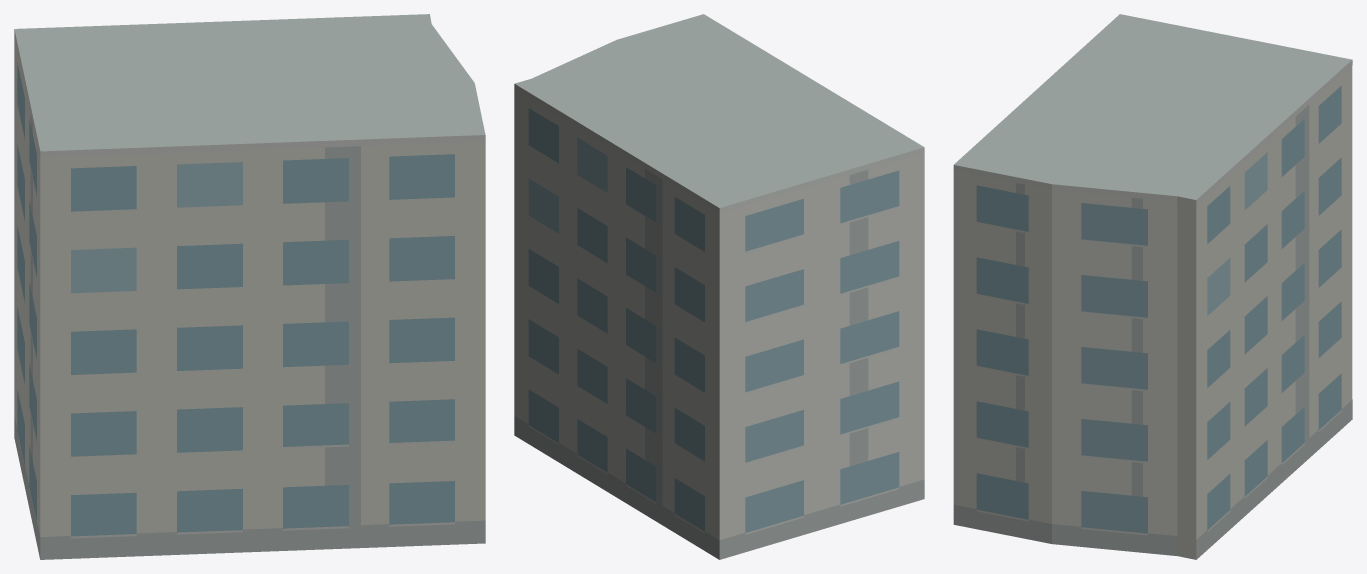
File: survey-upis-32778261.glb
The picture shows the model from 3 angles, left to right: view 1: azimuth 30°, elevation 25°; view 2: azimuth 150°, elevation 25°; view 3: azimuth 270°, elevation 25°; orthographic projection. The views are drawn at different scales.
Parts seen in each view (by area): view 1: survey-upis-32778261.tmp; view 2: survey-upis-32778261.tmp; view 3: survey-upis-32778261.tmp.
Boxes of the visible parts, box(x1,y1,x2,y2) form: survey-upis-32778261.tmp: box(14, 14, 485, 559); survey-upis-32778261.tmp: box(514, 14, 924, 559); survey-upis-32778261.tmp: box(953, 14, 1352, 559).
Size of the model in its own units: 16.64 by 15 by 15.08.
